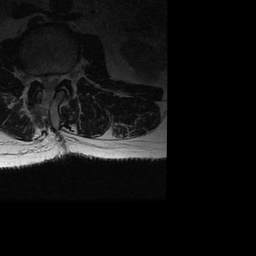CCS_normal: (46, 66, 53, 98)
LFS_stenosis: (61, 64, 69, 87)
LLS_normal: (53, 65, 60, 92)
RFS_stenosis: (30, 66, 38, 90)
RLS_normal: (38, 66, 46, 92)
